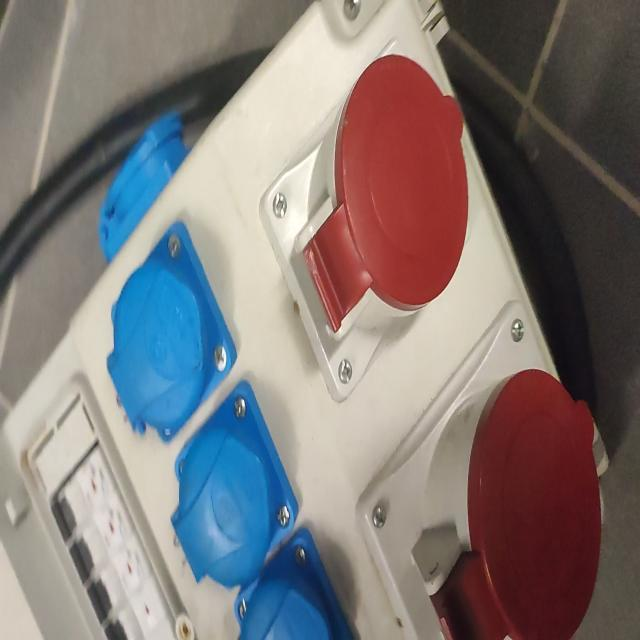400v socket: (358, 301, 602, 640), (259, 41, 470, 406)
house plug covered: (108, 224, 236, 444), (173, 377, 298, 586), (233, 527, 360, 640)
